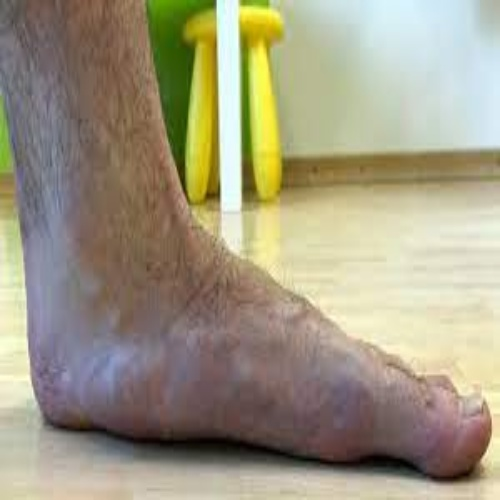Top_Foot: (19, 254, 491, 467)
